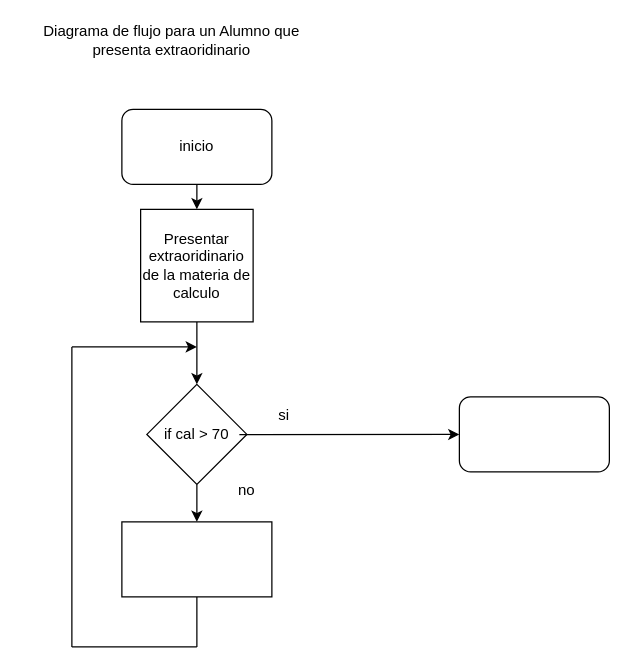
Some shapes in this 631 by 670 pixel diagram are drawn without their labels. Each missing label, with the centre of its shape:
"fin" belongs at [533,434].
"Se va a consejo" belongs at [196,559].
